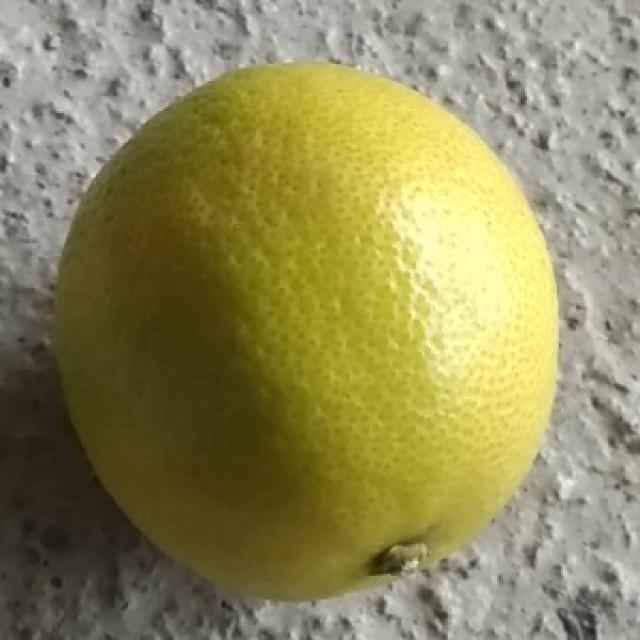Lemon: (48, 55, 562, 605)
